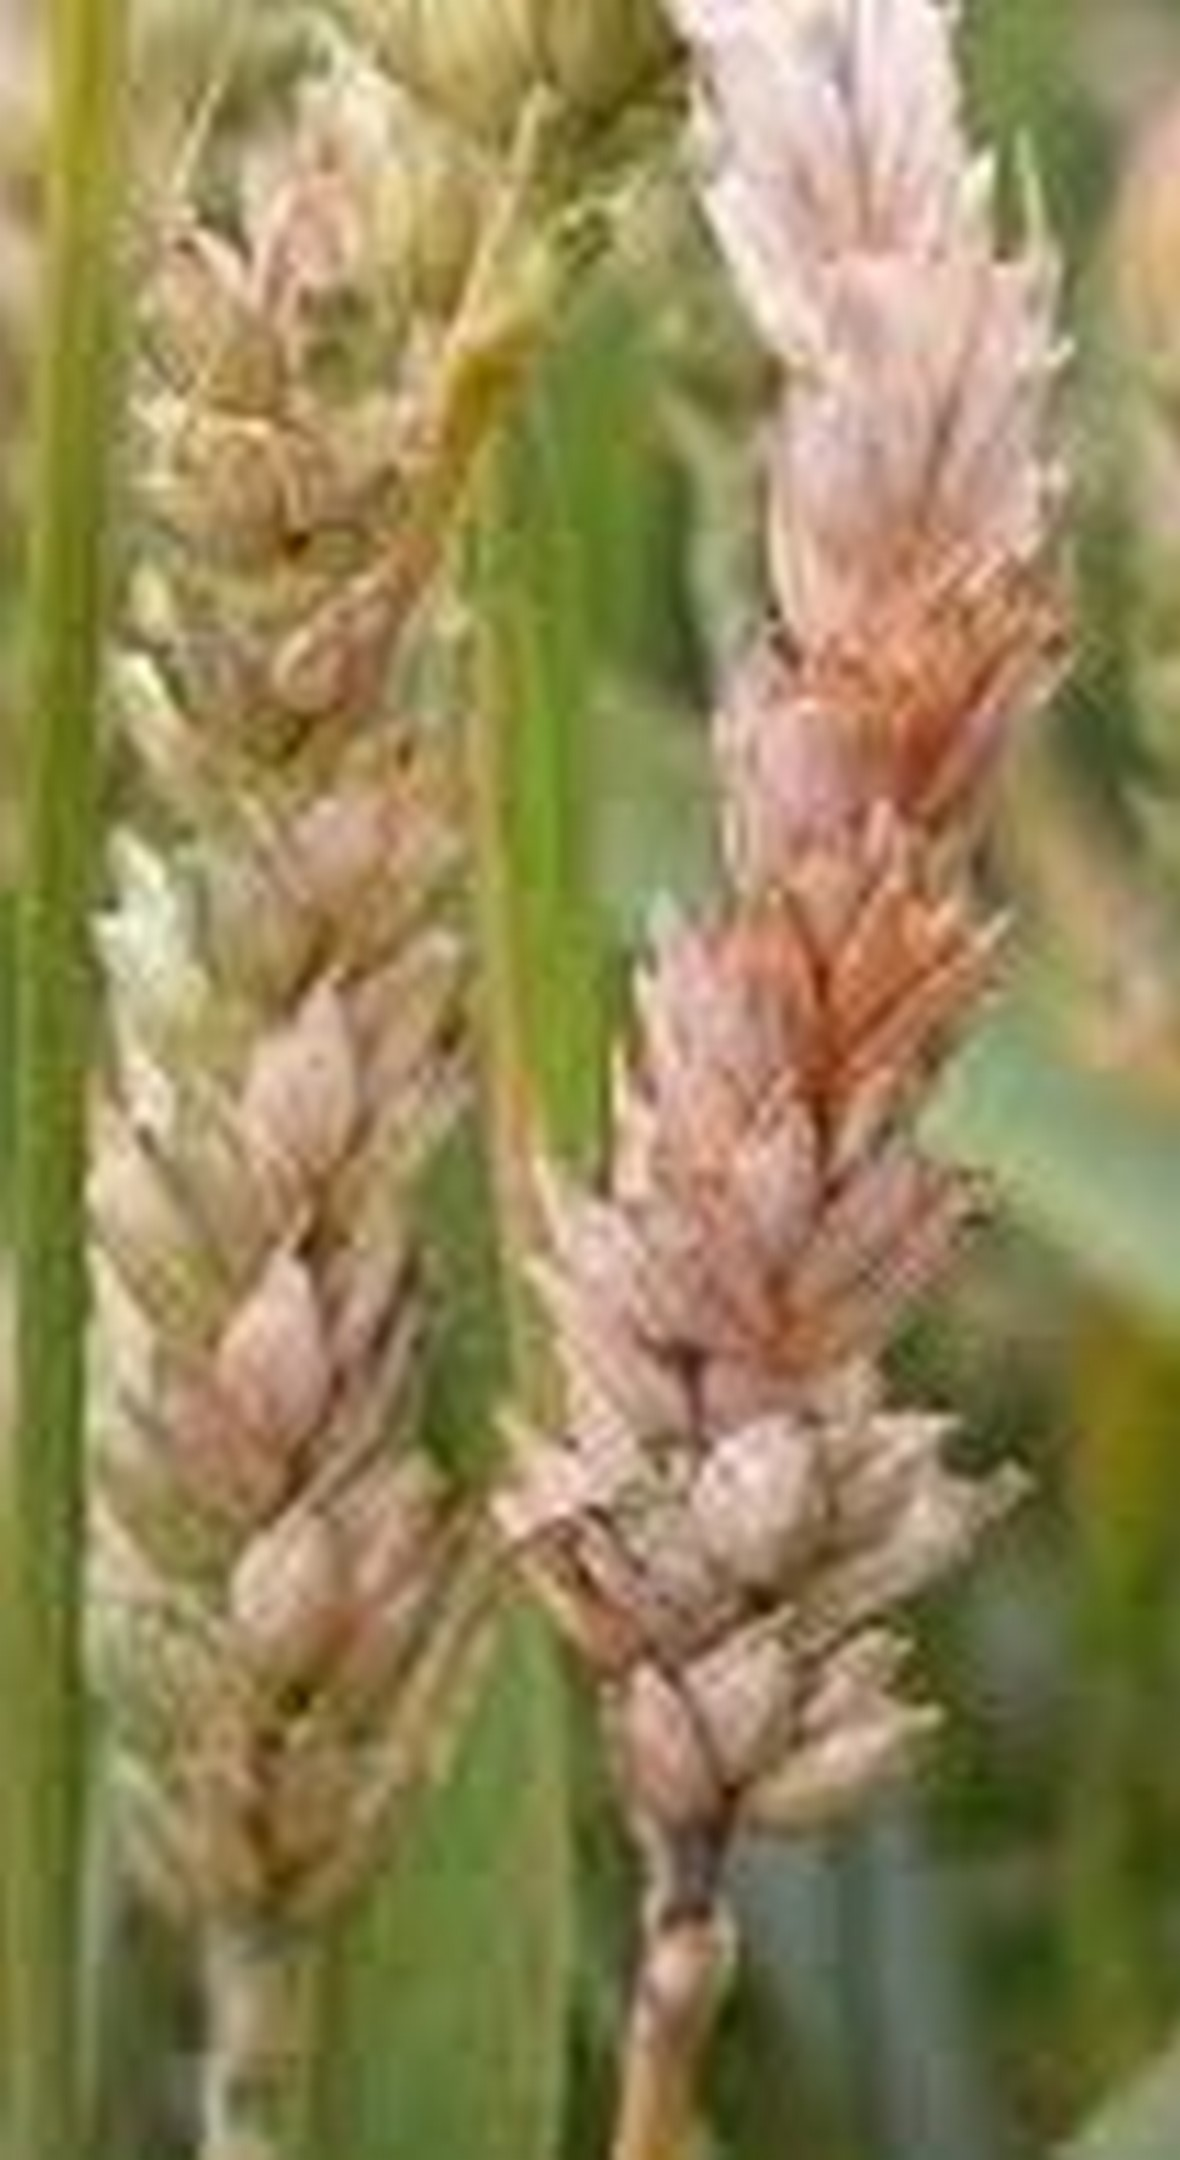Wheat scab: (562, 89, 1155, 1896), (70, 25, 530, 1933)
